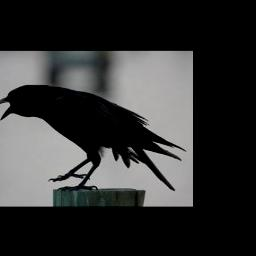Crow: (0, 84, 186, 193)
